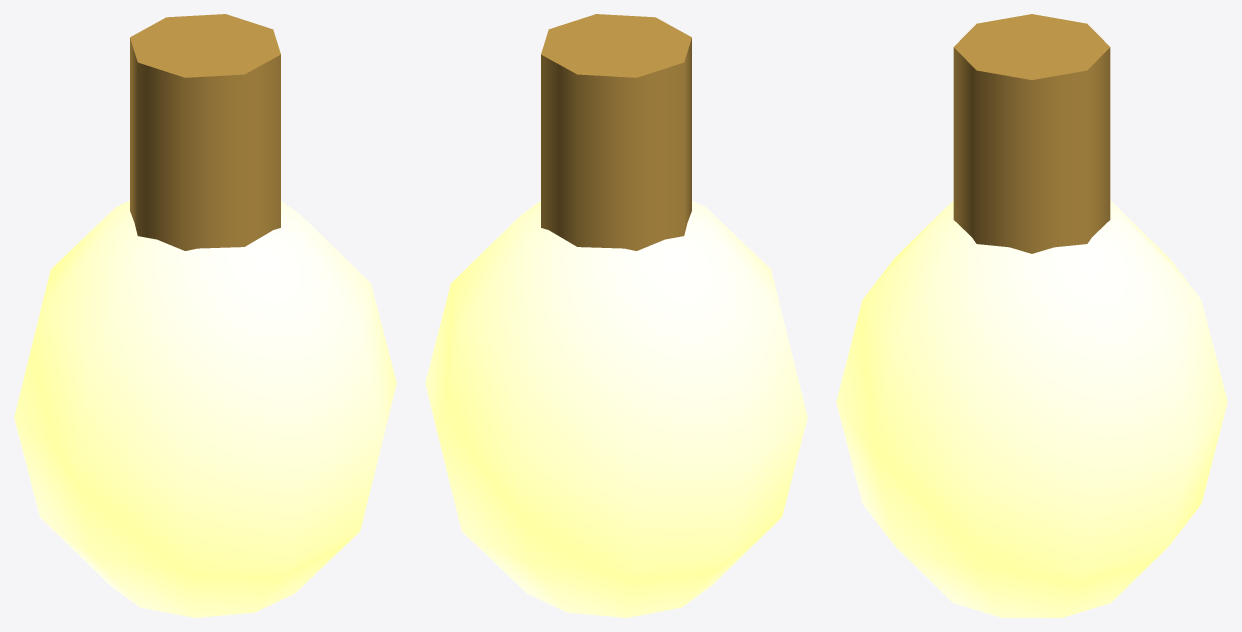
The model's file is lamp_bulb_bare.glb.
The picture shows the model from 3 angles, left to right: view 1: azimuth 30°, elevation 25°; view 2: azimuth 150°, elevation 25°; view 3: azimuth 270°, elevation 25°; orthographic projection.
Parts seen in each view (by area): view 1: lamp_bulb_bare; view 2: lamp_bulb_bare; view 3: lamp_bulb_bare.
Boxes of the visible parts, left/top/right/bottom form: lamp_bulb_bare: left=14, top=14, right=396, bottom=617; lamp_bulb_bare: left=425, top=14, right=807, bottom=617; lamp_bulb_bare: left=836, top=14, right=1227, bottom=617.
Bounding box in the file's own units: 0.0951 × 0.1575 × 0.1.
